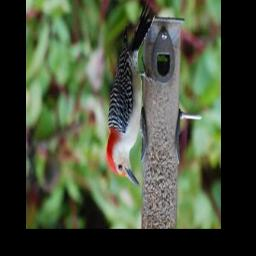Woodpecker: (106, 0, 158, 187)
